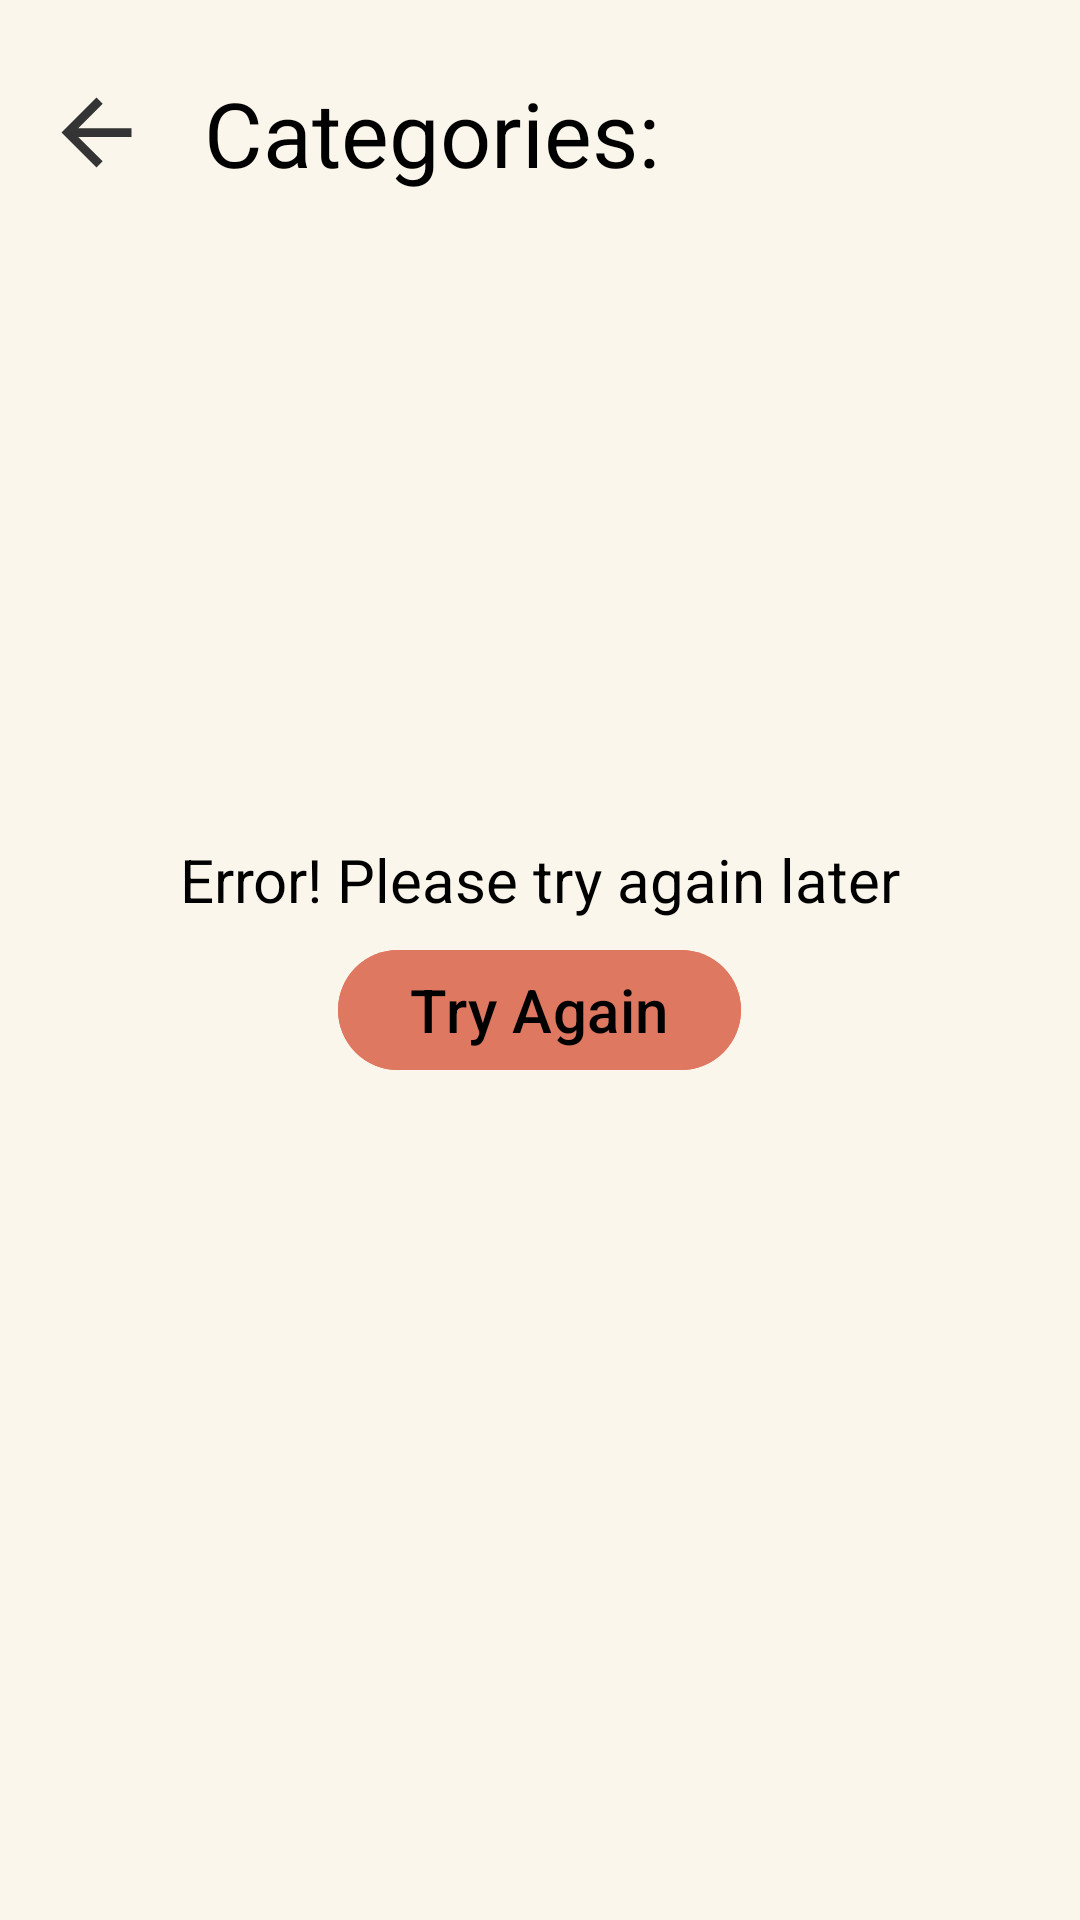

Icons on this 1080px x 1920px Android screen, each with its box as {"left": x1, "top": y1, "right": x2, "bottom": y2}:
Back to user hobbies: {"left": 61, "top": 97, "right": 132, "bottom": 168}
